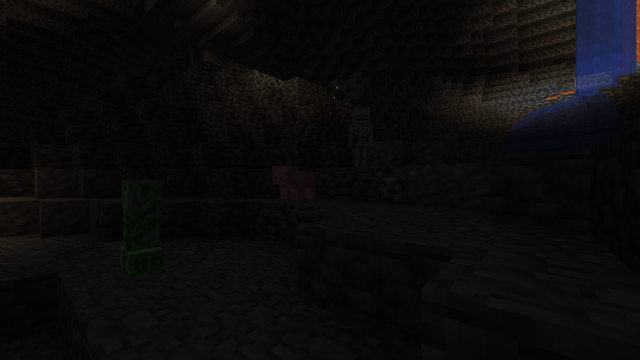cochons: (276, 169, 318, 201)
creepers: (116, 175, 165, 277)
squelettes: (348, 105, 372, 154)
